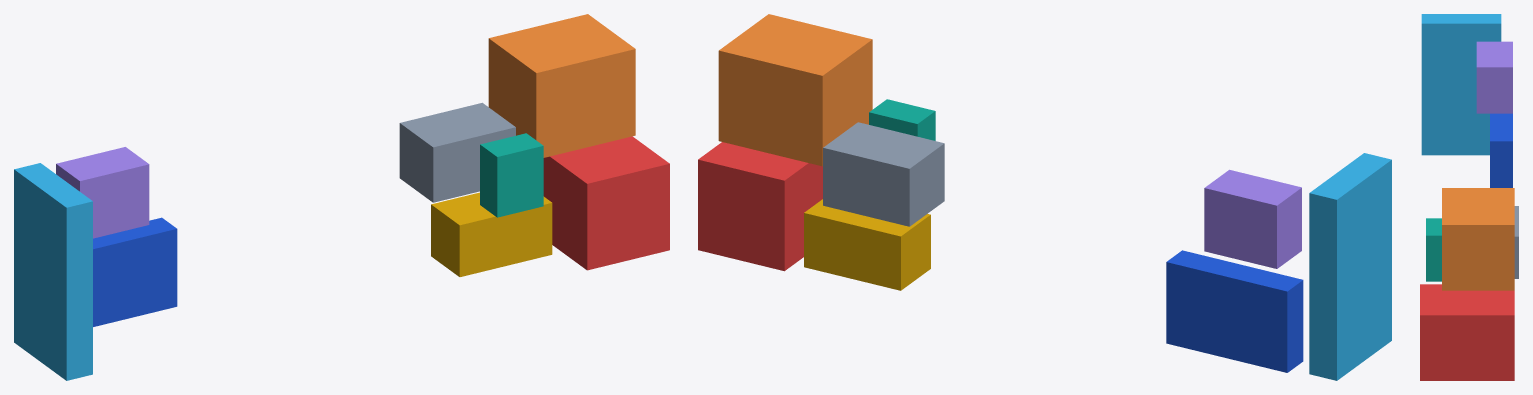
Rendered from assembly.obj.
The picture shows the model from 3 angles, left to right: view 1: azimuth 30°, elevation 25°; view 2: azimuth 150°, elevation 25°; view 3: azimuth 270°, elevation 25°; orthographic projection. The views are drawn at different scales.
Visible parts, largest first — view 1: ENG, CND, STM, WTR, GBX, FUE, ELE, RCV; view 2: ENG, CND, WTR, STM, GBX, FUE, ELE, RCV; view 3: CND, STM, ENG, ELE, WTR, RCV, GBX.
Part boxes in pixels (x1,y1,x2,y2): ENG: (488, 14, 635, 157); CND: (14, 163, 92, 380); STM: (543, 136, 669, 270); WTR: (93, 217, 177, 326); GBX: (399, 102, 515, 202); FUE: (431, 192, 552, 276); ELE: (56, 147, 149, 238); RCV: (480, 133, 543, 217); ENG: (718, 14, 872, 166); CND: (1309, 153, 1391, 380); WTR: (1166, 250, 1303, 372); STM: (698, 142, 822, 271); GBX: (823, 122, 944, 226); FUE: (804, 199, 930, 290); ELE: (1204, 169, 1301, 268); RCV: (869, 99, 935, 140); CND: (1421, 14, 1501, 155); STM: (1420, 284, 1514, 380); ENG: (1442, 188, 1514, 290); ELE: (1476, 41, 1512, 113); WTR: (1490, 113, 1512, 187); RCV: (1426, 218, 1441, 281); GBX: (1514, 206, 1518, 278).
Size of the model in its own units: 3640 by 1130 by 680.
